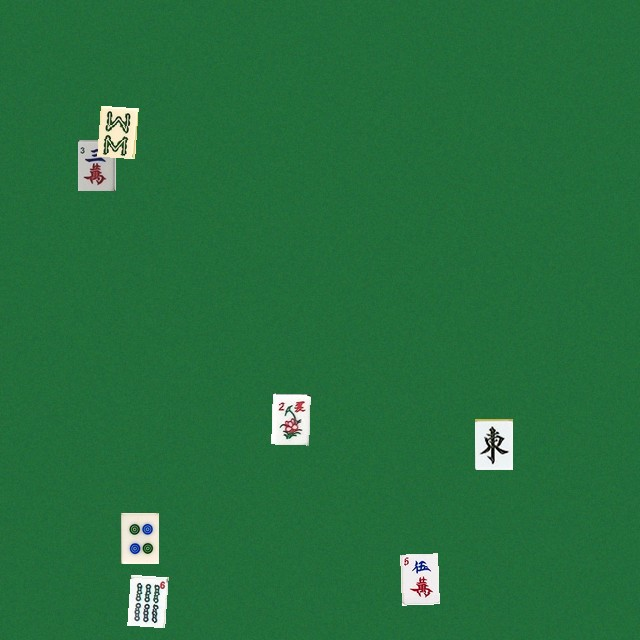tile: (120, 512, 158, 563), (77, 139, 115, 190), (400, 553, 438, 604), (127, 574, 165, 625), (474, 418, 512, 469), (271, 393, 309, 444), (97, 105, 135, 156)
